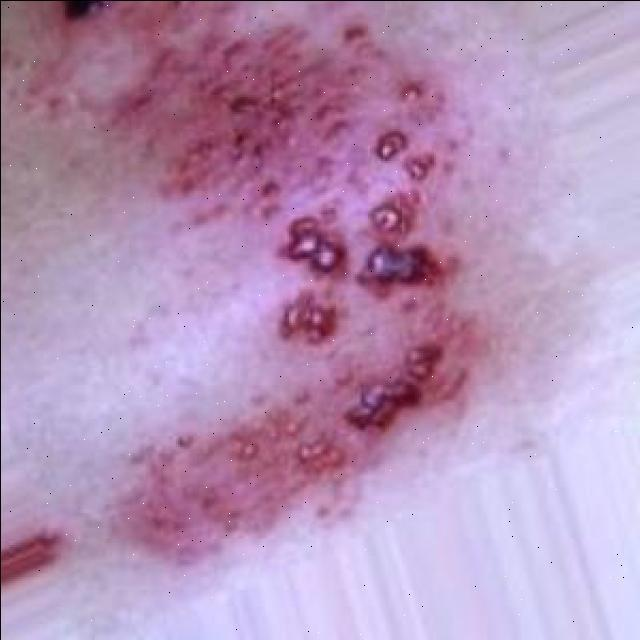Shingles: (131, 12, 456, 340), (106, 331, 472, 561)
